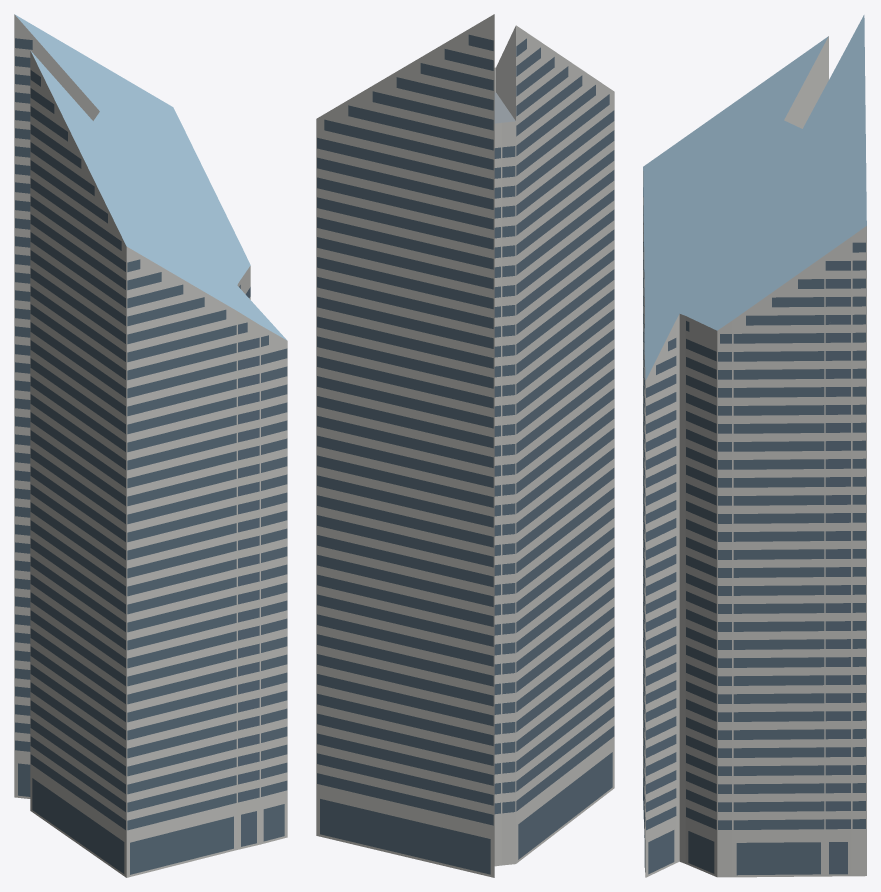
The model's file is detail.glb.
3 views of the same model, side by side, from view 1: azimuth 30°, elevation 25°; view 2: azimuth 150°, elevation 25°; view 3: azimuth 270°, elevation 25° (orthographic). The views are drawn at different scales.
Parts seen in each view (by area): view 1: crain-communications-building; view 2: crain-communications-building; view 3: crain-communications-building.
Part boxes in pixels (x1,y1,x2,y2): crain-communications-building: (14,14,287,877); crain-communications-building: (316,14,614,877); crain-communications-building: (643,15,866,877).
Bounding box in the file's own units: 39.32 × 177 × 45.94.
